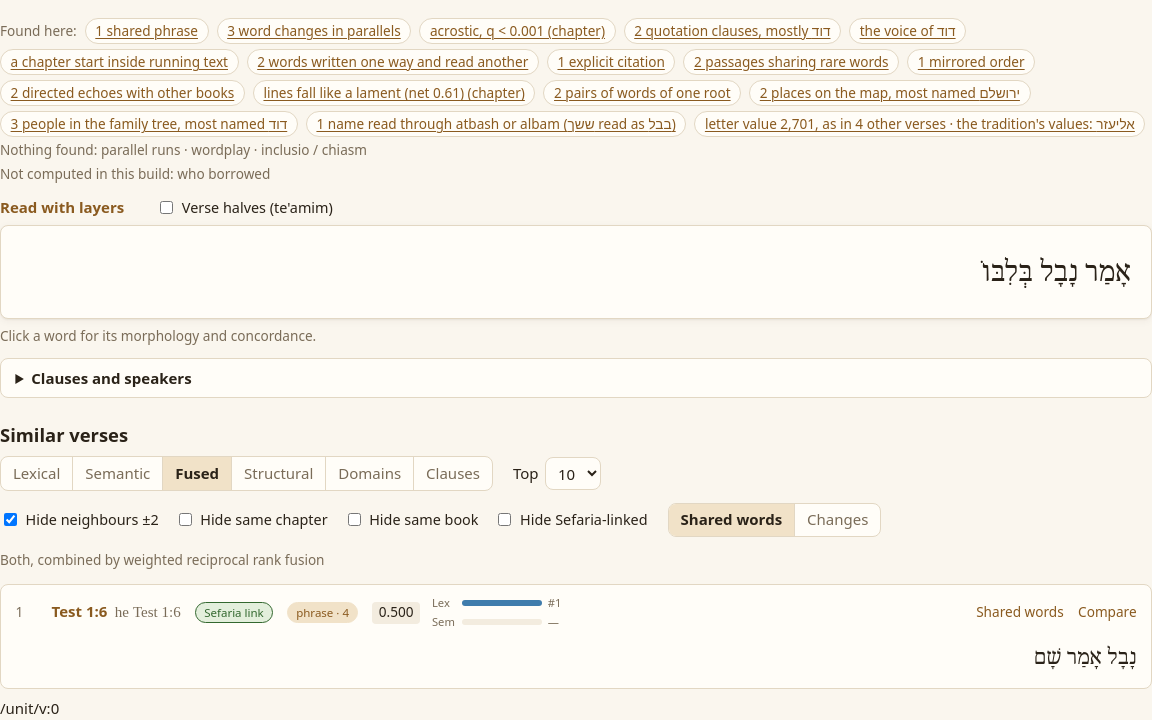
Test: UnitPage › hides neighbours by default and highlights shared lemmas on hover
The width and height of the screenshot is (1152, 720).
(page scrolled)
Hover over the list item "Test 1:6" at (576,637), box top-left (0, 584), bottom-right (1151, 689)
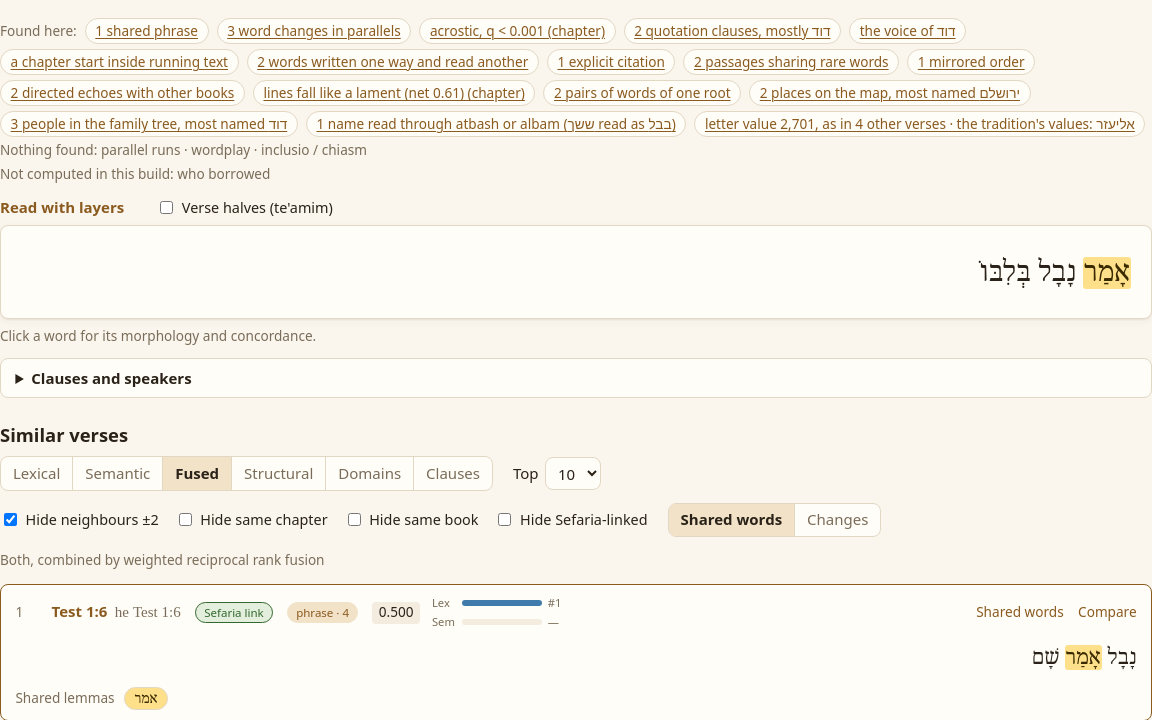
Now the element labelled "Shared lemmas" shows "אמר", box top-left (124, 687), bottom-right (168, 710)
